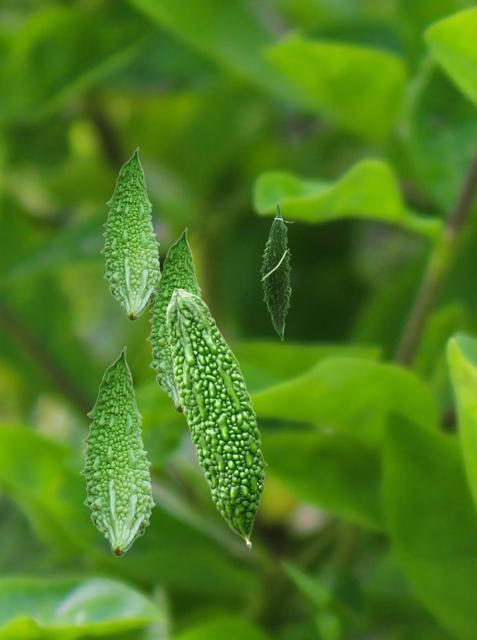ampalaya: (165, 287, 268, 549), (79, 345, 156, 557), (145, 226, 202, 414), (99, 146, 160, 321), (259, 202, 296, 341)
